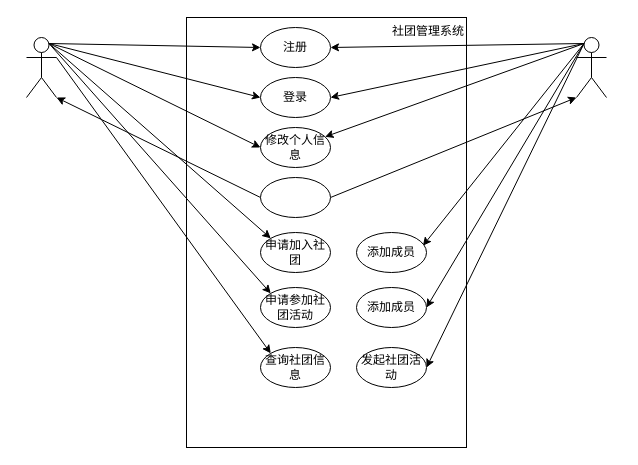
Some shapes in this 638 by 465 pixel diagram are drawn without their labels. The centre of each missing label's shape, as x and y in pixels:
普通用户: pixel 41 67
社团管理员: pixel 591 67
系统通知: pixel 295 197
